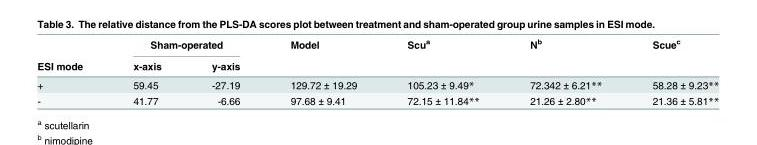table: (36, 36, 718, 106)
table column: (503, 36, 626, 106), (381, 36, 503, 106), (264, 36, 381, 106), (626, 36, 718, 106), (185, 36, 264, 106), (107, 36, 185, 106), (36, 36, 107, 106)
table column header: (36, 36, 718, 75)
table row: (36, 54, 718, 75), (36, 36, 718, 54), (36, 75, 718, 92), (36, 92, 718, 106)
table spanning cell: (503, 36, 626, 75), (381, 36, 503, 75), (264, 36, 381, 75), (626, 36, 718, 75), (107, 36, 264, 54), (36, 36, 107, 75)
